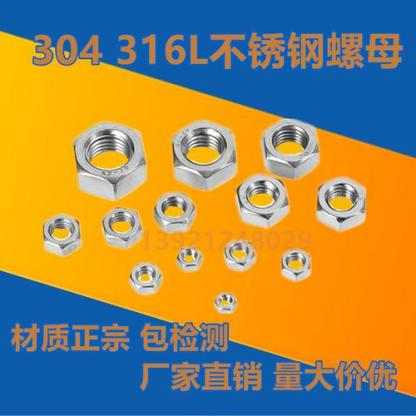FOD: (69, 120, 146, 199), (172, 119, 236, 191), (263, 118, 319, 178), (316, 175, 370, 231), (236, 174, 289, 230), (39, 210, 82, 262), (152, 191, 196, 237), (99, 204, 142, 250), (128, 260, 163, 296), (278, 249, 312, 284), (221, 240, 257, 273), (176, 246, 203, 271), (212, 291, 237, 316)
